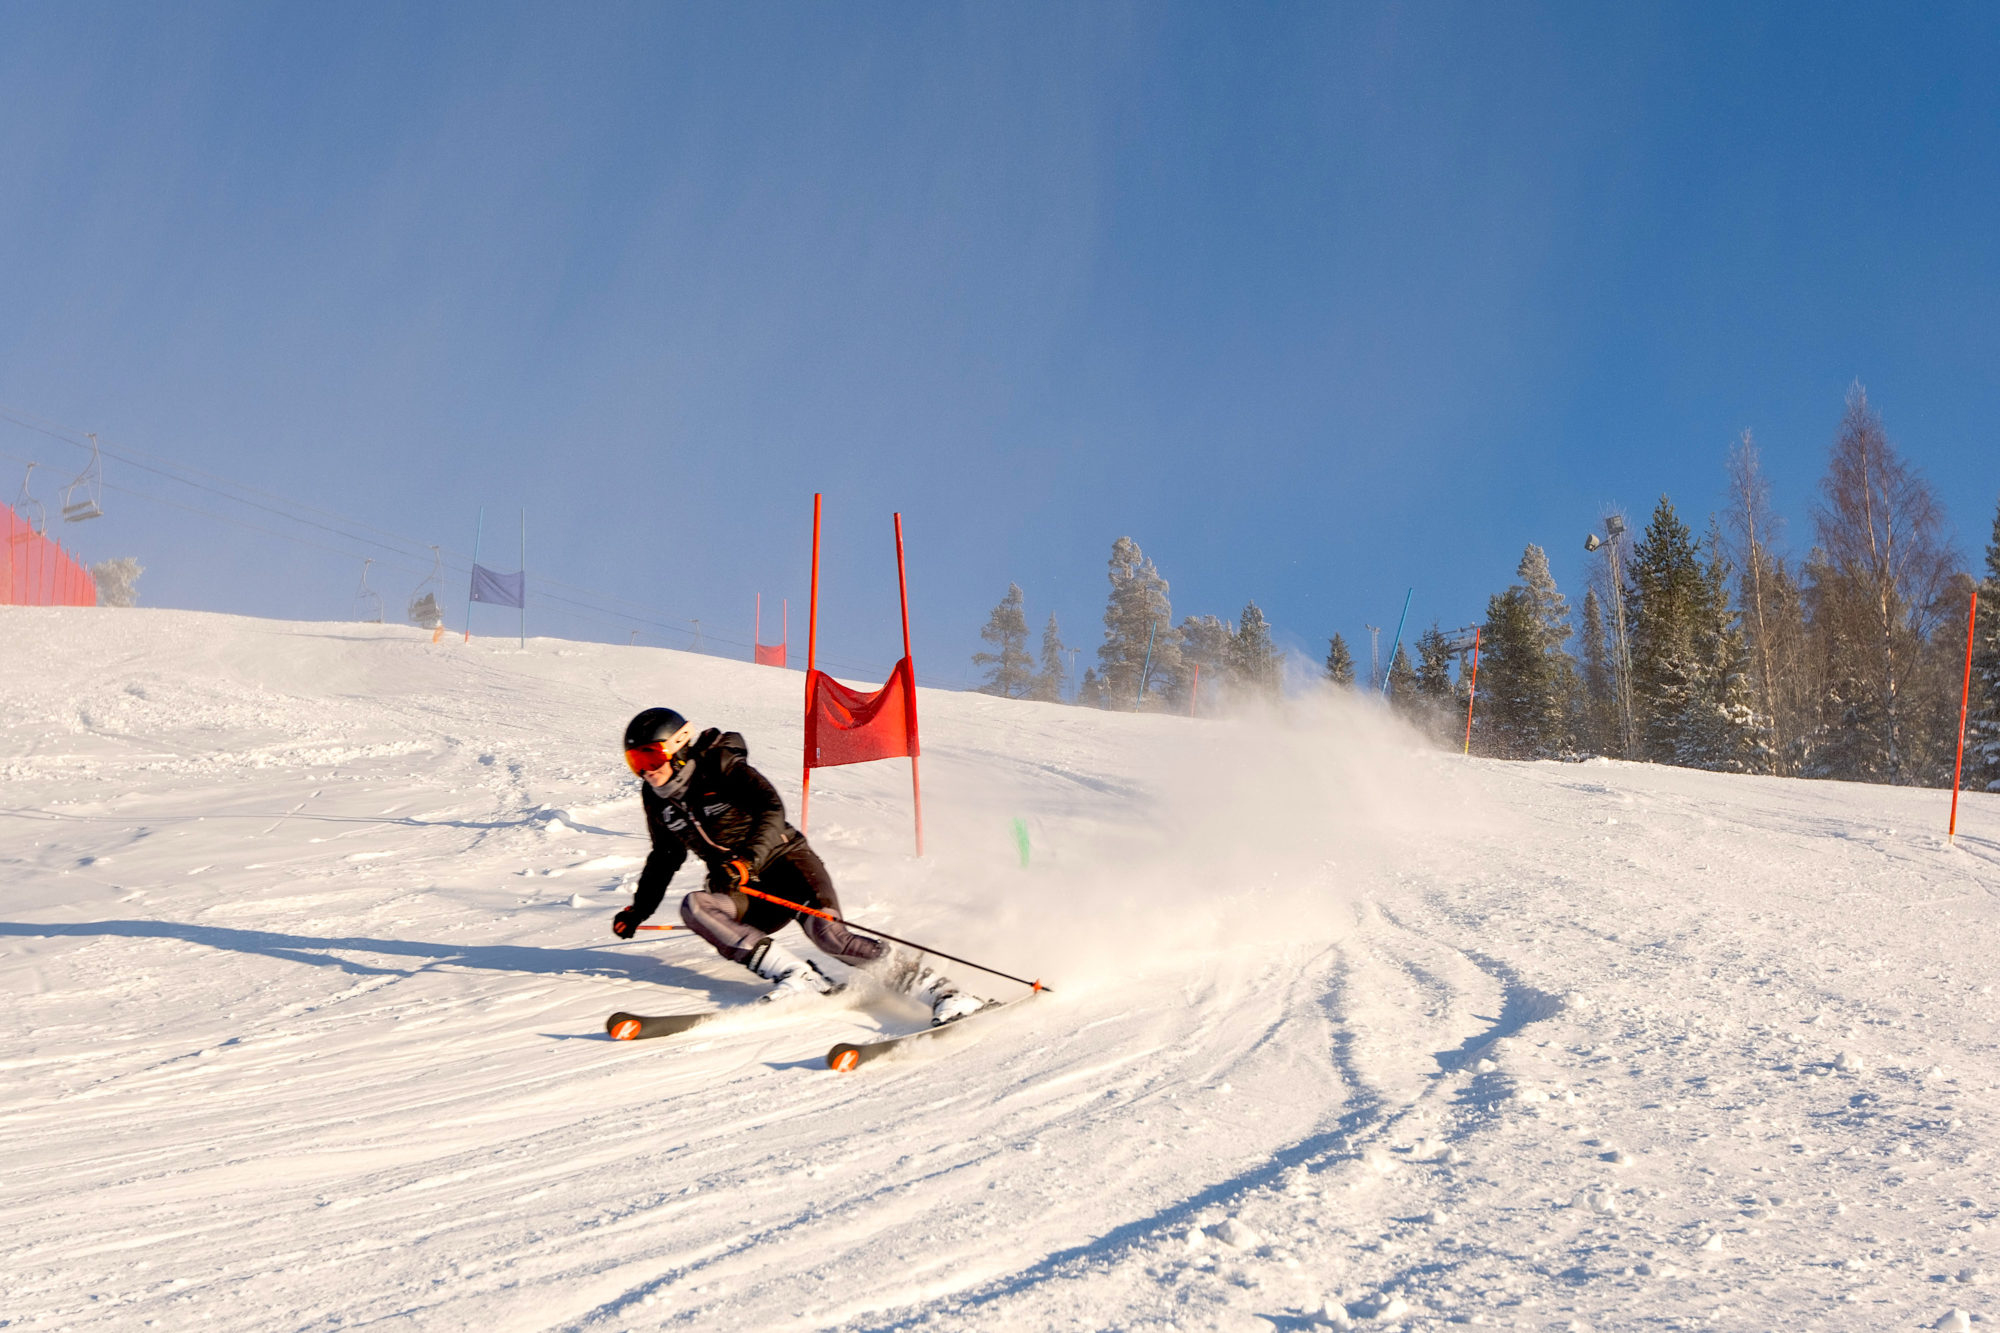skier: (552, 655, 1078, 1091)
